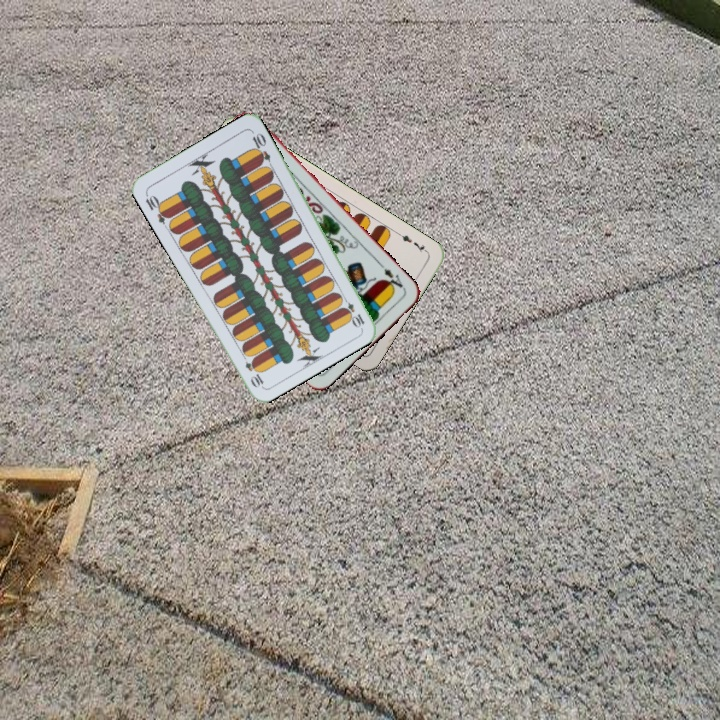E10: (141, 189, 173, 226), (338, 292, 367, 330)
E7: (394, 228, 430, 256)
EA: (376, 260, 408, 294)
